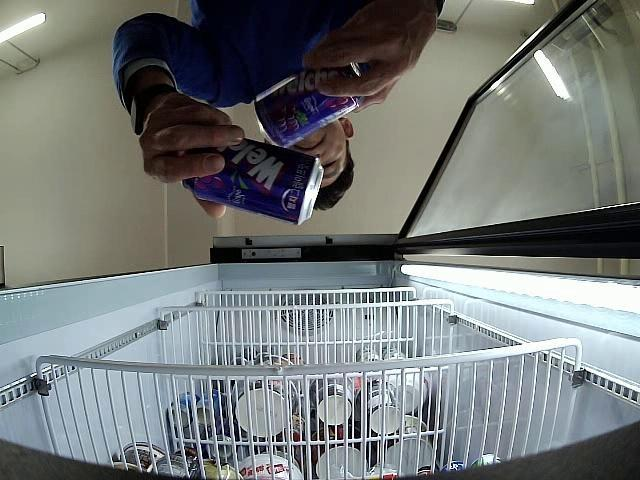14_welchsGrape: (182, 137, 324, 224), (255, 62, 361, 148)
